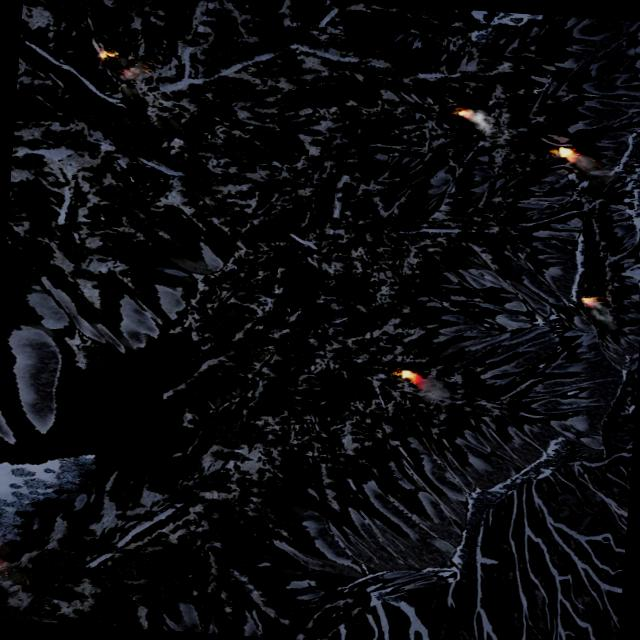fire: (552, 146, 576, 162), (398, 368, 421, 382), (94, 50, 116, 60), (580, 296, 598, 306), (454, 109, 472, 118)
smoke: (0, 533, 32, 620), (413, 377, 455, 406), (110, 58, 153, 86), (570, 153, 604, 181), (462, 108, 494, 134), (587, 302, 619, 328)
